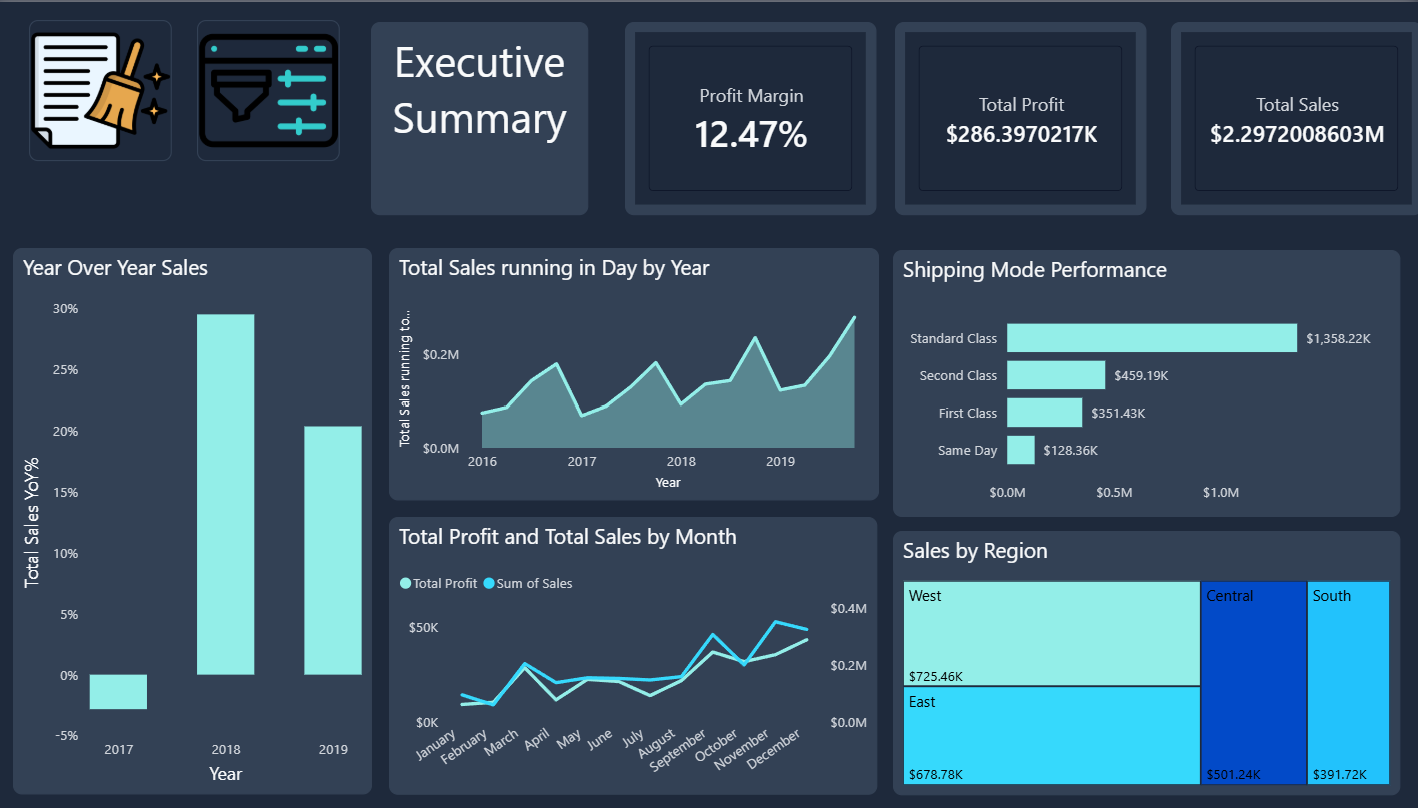

This screenshot's page, from the dashboard's own definition file:
{"tool":"powerbi","page":{"name":"executive analysis","canvas":[1280,720],"ordinal":0},"visuals":[{"type":"cardVisual","fields":{"Data":["Orders.Total Sales"]},"box":[1055.4,18.5,224.6,172.3],"z":0},{"type":"cardVisual","fields":{"Data":["Orders.Total Profit"]},"box":[809.2,18.5,224.6,172.3],"z":1000},{"type":"cardVisual","fields":{"Data":["Orders.Profit Margin"]},"box":[567.7,18.5,224.6,172.3],"z":2000},{"type":"lineChart","title":"Total Profit and Total Sales by Month","fields":{"Y":["Orders.Total Profit"],"Y2":["Sum(Orders.Sales)"],"Category":["Orders.Order Date.Variation.Date Hierarchy.Year","Orders.Order Date.Variation.Date Hierarchy.Month"]},"box":[20.6,447.2,771.1,262.2],"z":3000},{"type":"textbox","box":[341.5,18.5,193.8,172.3],"z":4000},{"type":"treemap","title":"Sales by Region","fields":{"Values":["Sum(Orders.Sales)"],"Group":["Orders.Region"]},"box":[807.5,471.7,452.8,235.8],"z":5000},{"type":"clusteredBarChart","title":"Shipping Mode Performance","fields":{"Y":["Orders.Total Sales"],"Category":["Orders.Ship Mode"]},"box":[807.5,220.8,452.8,237.7],"z":6000},{"type":"image","box":[35.6,16.9,127.7,126.2],"z":9000},{"type":"image","title":"Filters","box":[186.4,16.9,127.7,126.2],"z":10000},{"type":"columnChart","fields":{"Y":["Orders.Total Sales YoY%"],"Category":["Orders.Order Date.Variation.Date Hierarchy.Year"]},"box":[471.2,221,320.4,224.5],"z":11000},{"type":"areaChart","fields":{"Category":["Orders.Order Date.Variation.Date Hierarchy.Year","Orders.Order Date.Variation.Date Hierarchy.Quarter","Orders.Order Date.Variation.Date Hierarchy.Month","Orders.Order Date.Variation.Date Hierarchy.Day"],"Y":["Orders.Total Sales running total in Day"]},"box":[20.6,221,440.4,224.5],"z":12000}]}

Visuals, with their boxes in screenshot pixels (x1, y1, x2, y2), scaled from the page's 1280x720 canvas onto the 1418x808 screenshot:
cardVisual - Orders.Total Sales: <bbox>1169, 21, 1417, 214</bbox>
cardVisual - Orders.Total Profit: <bbox>896, 21, 1145, 214</bbox>
cardVisual - Orders.Profit Margin: <bbox>629, 21, 878, 214</bbox>
"Total Profit and Total Sales by Month" lineChart: <bbox>23, 502, 877, 796</bbox>
textbox: <bbox>378, 21, 593, 214</bbox>
"Sales by Region" treemap: <bbox>895, 529, 1396, 794</bbox>
"Shipping Mode Performance" clusteredBarChart: <bbox>895, 248, 1396, 515</bbox>
image: <bbox>39, 19, 181, 161</bbox>
"Filters" image: <bbox>206, 19, 348, 161</bbox>
columnChart - Orders.Total Sales YoY% x Orders.Order Date.Variation.Date Hierarchy.Year: <bbox>522, 248, 877, 500</bbox>
areaChart - Orders.Order Date.Variation.Date Hierarchy.Year x Orders.Order Date.Variation.Date Hierarchy.Quarter: <bbox>23, 248, 511, 500</bbox>
